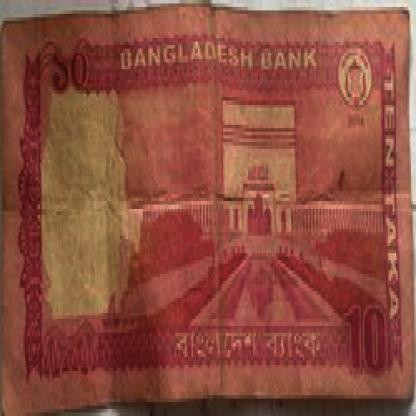Ten Taka: (47, 31, 107, 118), (341, 284, 388, 385)
